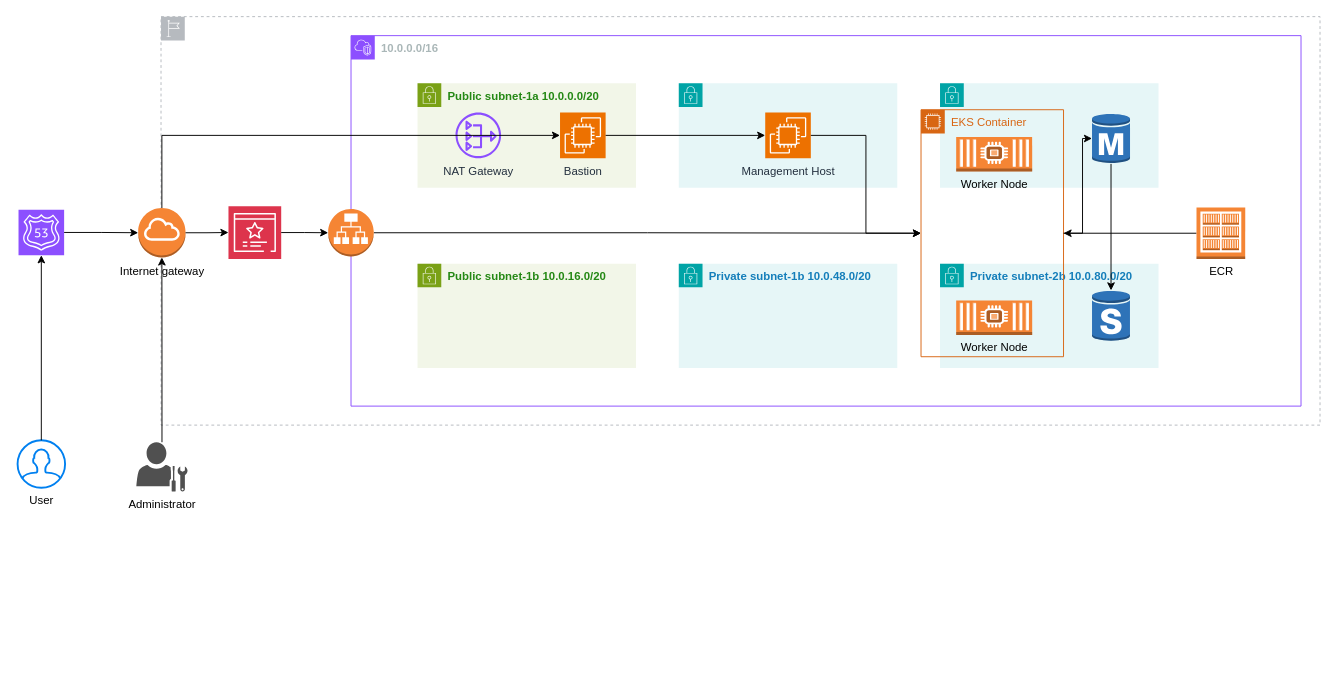
The diagram is 1337 pixels wide and 696 high, and some of its shapes have lost their labels. Here are the shapes that lost their labels. From the top down, the box of each, then its label:
(678, 82, 897, 188): Private subnet-1a 10.0.32.0/20
(939, 82, 1159, 188): Private subnet-2a 10.0.64.0/20
(1091, 112, 1130, 164): Master
(18, 209, 64, 255): Route 53
(228, 205, 281, 259): certificates
(327, 208, 374, 256): alb
(160, 16, 1320, 425): ap-northeast-2
(1091, 289, 1130, 341): Standby
